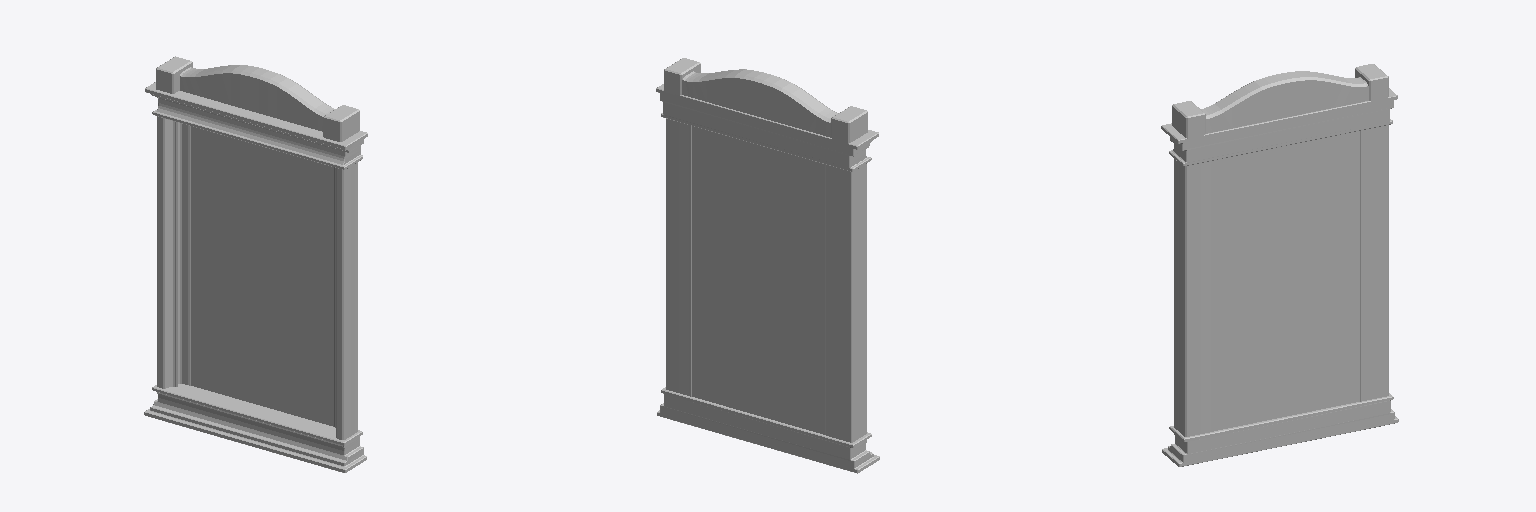
3 views of the same model, side by side, from view 1: azimuth 30°, elevation 25°; view 2: azimuth 210°, elevation 25°; view 3: azimuth 270°, elevation 25° (orthographic).
Parts seen in each view (by area): view 1: Bistro_Research_Exterior_Paris_MenuSign_01b1_6109; view 2: Bistro_Research_Exterior_Paris_MenuSign_01b1_6109; view 3: Bistro_Research_Exterior_Paris_MenuSign_01b1_6109.
Part boxes in pixels (x1,y1,x2,y2): Bistro_Research_Exterior_Paris_MenuSign_01b1_6109: (144,56,367,472); Bistro_Research_Exterior_Paris_MenuSign_01b1_6109: (656,58,879,473); Bistro_Research_Exterior_Paris_MenuSign_01b1_6109: (1161,64,1398,466).
Bounding box in the file's own units: 0.376 × 1.07 × 0.6322.